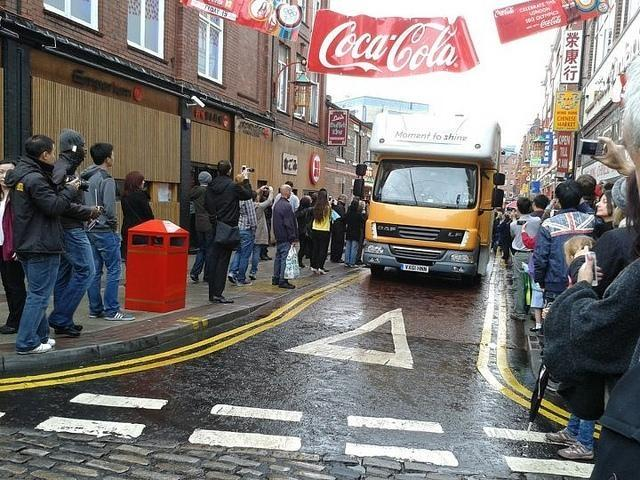truck: (353, 113, 508, 282)
